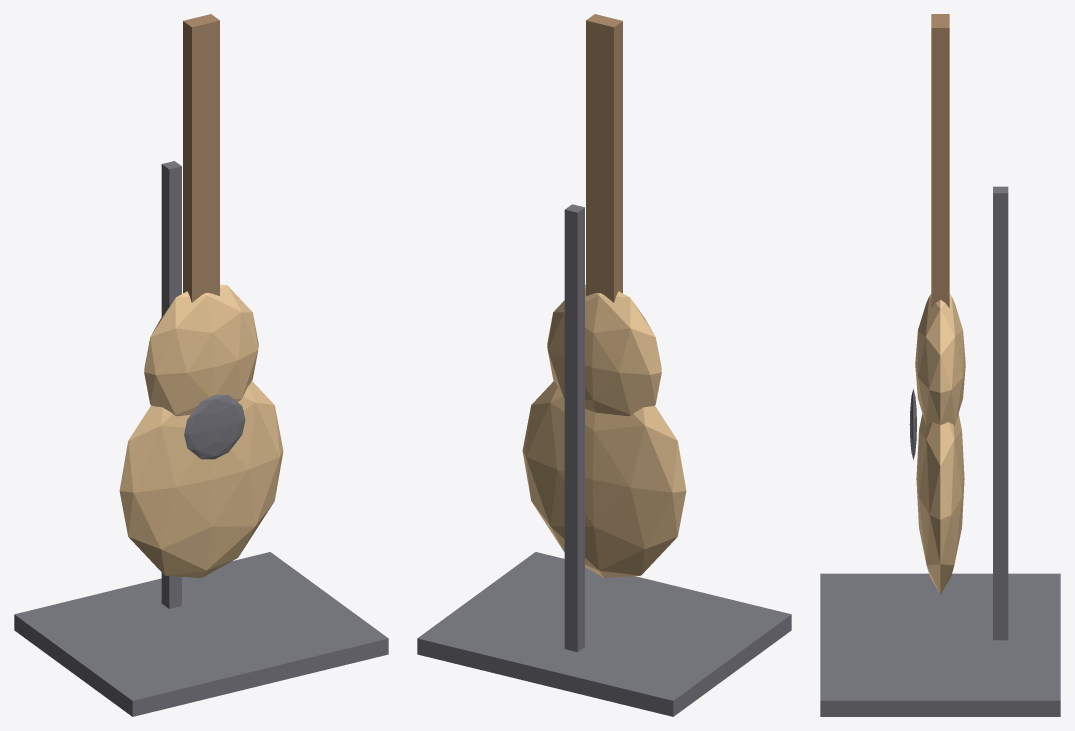
The model's file is cozy-home-interiors-guitar-stand-29de3ff1.glb.
The picture shows the model from 3 angles, left to right: view 1: azimuth 30°, elevation 25°; view 2: azimuth 150°, elevation 25°; view 3: azimuth 270°, elevation 25°; orthographic projection.
Parts seen in each view (by area): view 1: guitar-stand; view 2: guitar-stand; view 3: guitar-stand.
Boxes of the visible parts, left/top/right/bottom form: guitar-stand: left=14, top=14, right=388, bottom=716; guitar-stand: left=417, top=14, right=791, bottom=716; guitar-stand: left=820, top=14, right=1060, bottom=716.
Size of the model in its own units: 0.5 by 1.16 by 0.4.
